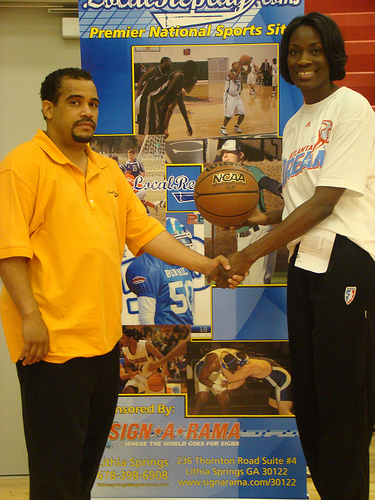basketball: (195, 164, 262, 226)
